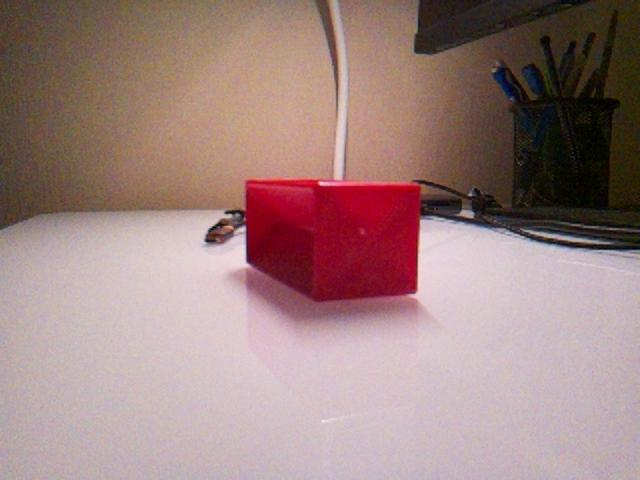red: (244, 177, 422, 303)
